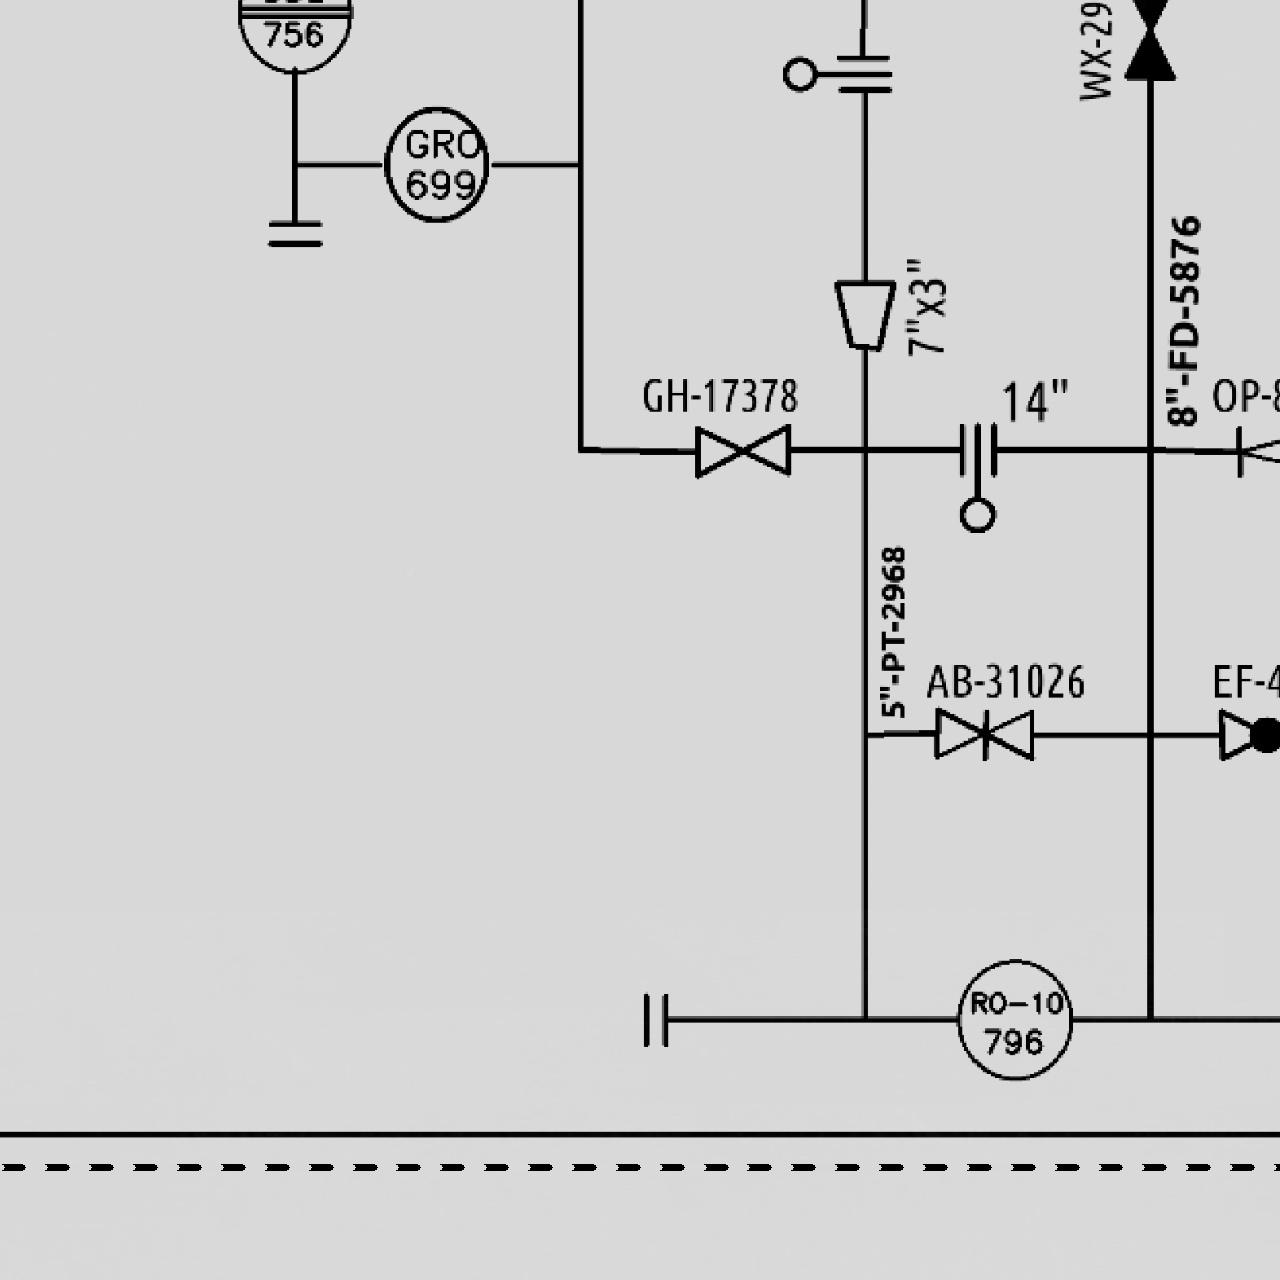Control-Panel: (949, 954, 1079, 1084)
